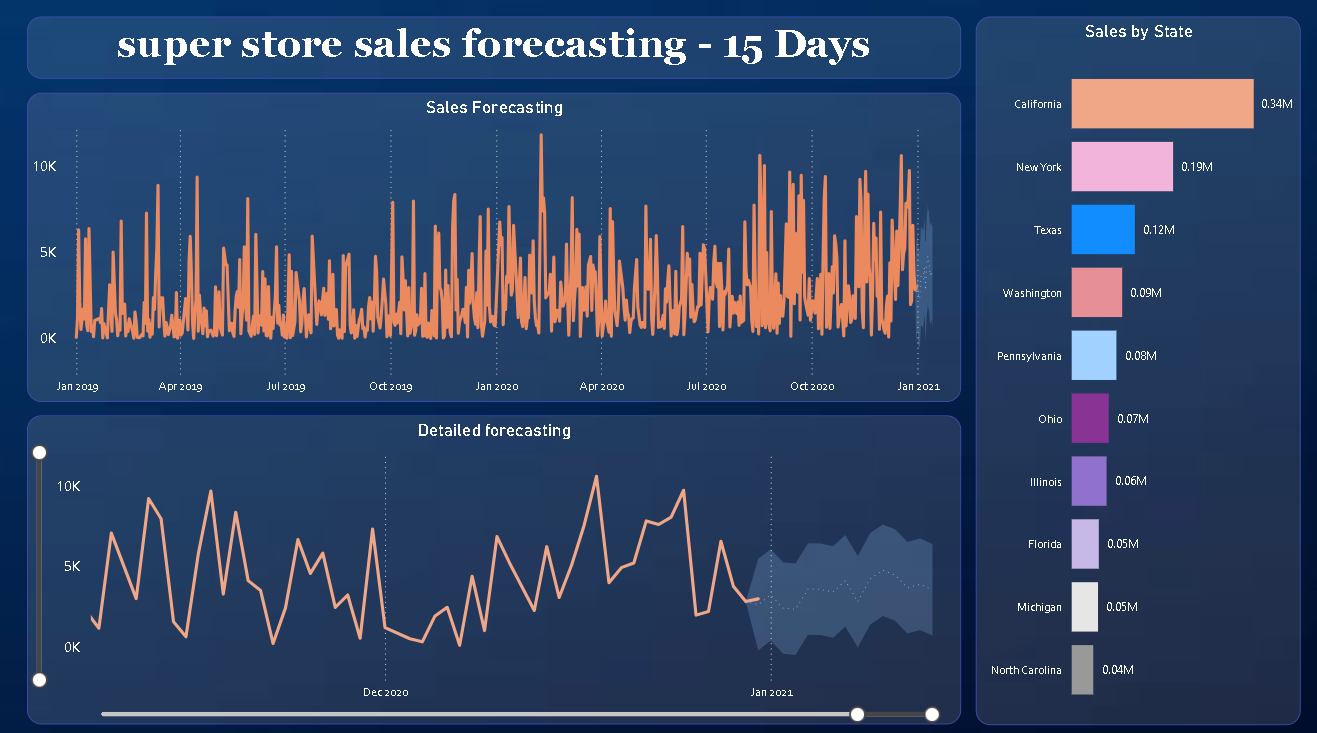

The dashboard page shown, as its layout file describes it:
{"tool":"powerbi","page":{"name":"Page 2","canvas":[1280,720],"ordinal":1},"visuals":[{"type":"lineChart","title":"Sales Forecasting","fields":{"Y":["Sum(SuperStore Sales DataSet xlsx - Sheet1.Sales)"],"Category":["SuperStore Sales DataSet xlsx - Sheet1.Order Date"]},"box":[28.8,95,901.2,298.8],"z":0},{"type":"lineChart","title":"Detailed forecasting","fields":{"Y":["Sum(SuperStore Sales DataSet xlsx - Sheet1.Sales)"],"Category":["SuperStore Sales DataSet xlsx - Sheet1.Order Date"]},"box":[28.8,406.2,901.2,298.8],"z":1000},{"type":"textbox","box":[28.8,21.2,901.2,60],"z":2000},{"type":"barChart","title":"Sales by State","fields":{"Y":["Sum(SuperStore Sales DataSet xlsx - Sheet1.Sales)"],"Category":["SuperStore Sales DataSet xlsx - Sheet1.State"]},"box":[945,21.2,313.8,683.8],"z":3000}]}

Visuals, with their boxes in screenshot pixels (x1, y1, x2, y2), scaled from the page's 1280x720 canvas onto the 1317x733 screenshot:
"Sales Forecasting" lineChart: left=30, top=97, right=957, bottom=401
"Detailed forecasting" lineChart: left=30, top=414, right=957, bottom=718
textbox: left=30, top=22, right=957, bottom=83
"Sales by State" barChart: left=972, top=22, right=1295, bottom=718
